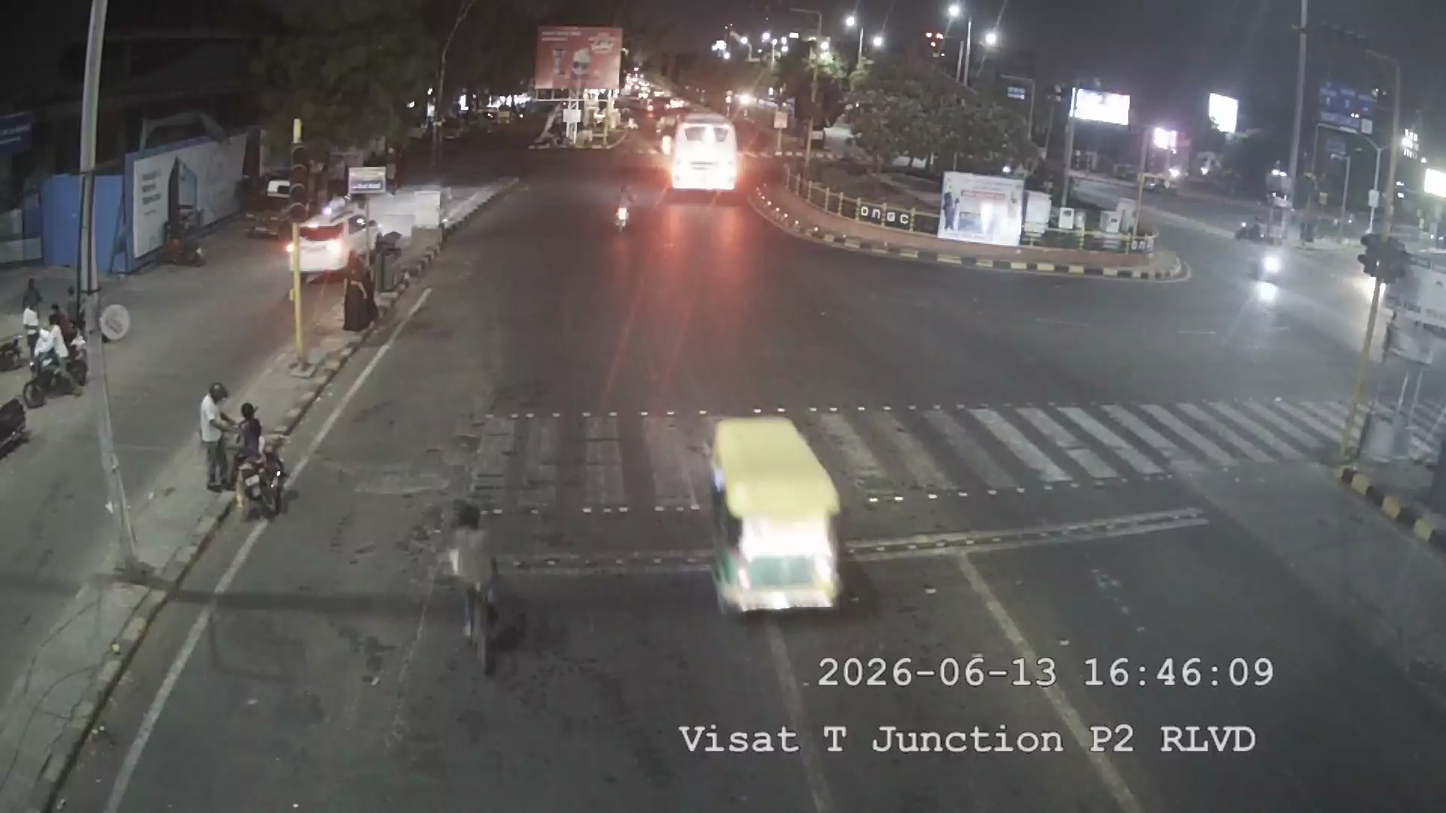auto_rickshaw: (699, 402, 849, 618)
bus: (656, 105, 742, 193)
car: (281, 212, 382, 277)
pedestrian: (441, 497, 510, 666), (194, 383, 271, 505), (221, 392, 277, 511), (192, 376, 246, 499)
two_wheeler: (1242, 240, 1288, 311), (1247, 239, 1288, 294), (607, 178, 641, 237)
